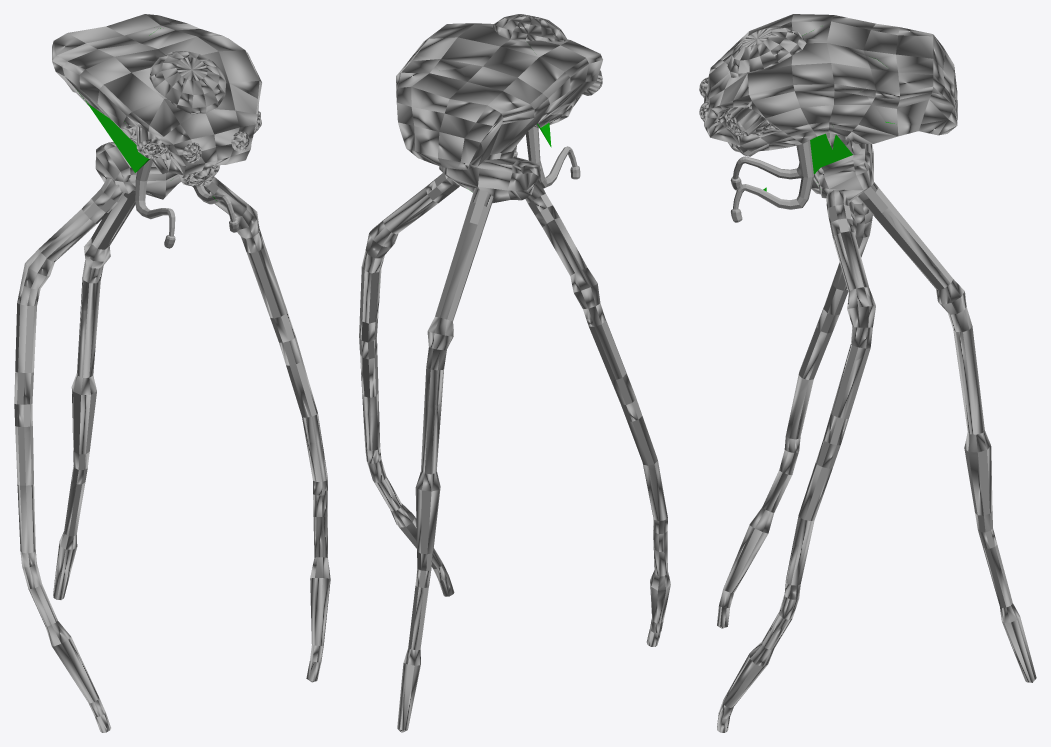
Rendered from EXP_Boss_1.fbx.
The picture shows the model from 3 angles, left to right: view 1: azimuth 30°, elevation 25°; view 2: azimuth 150°, elevation 25°; view 3: azimuth 270°, elevation 25°; orthographic projection. The views are drawn at different scales.
Parts seen in each view (by area): view 1: polySurface65, polySurface67, polySurface64, polySurface15, polySurface29, polySurface66, polySurface16, polySurface49, polySurface1, polySurface62, polySurface18, polySurface20 (+16 smaller); view 2: polySurface61, polySurface66, polySurface64, polySurface67, polySurface49, polySurface63, polySurface1, polySurface18, polySurface16, polySurface29, polySurface11, polySurface41 (+20 smaller); view 3: polySurface64, polySurface65, polySurface63, polySurface15, polySurface66, polySurface61, polySurface1, polySurface18, polySurface11, polySurface55, polySurface20, polySurface9 (+19 smaller).
Part boxes in pixels (left/top/right/bottom): polySurface65: left=124, top=57, right=261, bottom=174; polySurface67: left=65, top=56, right=170, bottom=121; polySurface64: left=149, top=27, right=261, bottom=118; polySurface15: left=255, top=258, right=321, bottom=443; polySurface29: left=18, top=214, right=105, bottom=325; polySurface66: left=52, top=35, right=155, bottom=98; polySurface16: left=14, top=323, right=35, bottom=444; polySurface49: left=95, top=142, right=178, bottom=193; polySurface1: left=53, top=484, right=84, bottom=599; polySurface62: left=70, top=82, right=149, bottom=172; polySurface18: left=80, top=233, right=112, bottom=310; polySurface20: left=216, top=202, right=269, bottom=271; polySurface61: left=415, top=68, right=530, bottom=169; polySurface66: left=461, top=41, right=551, bottom=125; polySurface64: left=415, top=14, right=531, bottom=70; polySurface67: left=526, top=23, right=602, bottom=105; polySurface49: left=460, top=156, right=541, bottom=202; polySurface63: left=396, top=55, right=439, bottom=134; polySurface1: left=397, top=587, right=427, bottom=732; polySurface18: left=424, top=303, right=455, bottom=407; polySurface16: left=597, top=334, right=645, bottom=439; polySurface29: left=538, top=219, right=609, bottom=329; polySurface11: left=415, top=398, right=440, bottom=495; polySurface41: left=379, top=173, right=456, bottom=231; polySurface64: left=736, top=27, right=888, bottom=147; polySurface65: left=699, top=26, right=779, bottom=145; polySurface63: left=863, top=68, right=955, bottom=124; polySurface15: left=793, top=360, right=856, bottom=544; polySurface66: left=802, top=20, right=923, bottom=59; polySurface61: left=877, top=32, right=957, bottom=114; polySurface1: left=984, top=547, right=1036, bottom=682; polySurface18: left=930, top=269, right=976, bottom=362; polySurface11: left=959, top=360, right=991, bottom=455; polySurface55: left=815, top=154, right=873, bottom=202; polySurface20: left=841, top=267, right=875, bottom=360; polySurface9: left=965, top=450, right=993, bottom=544.
Bounding box in the file's own units: 5.06 × 10.05 × 4.72.
